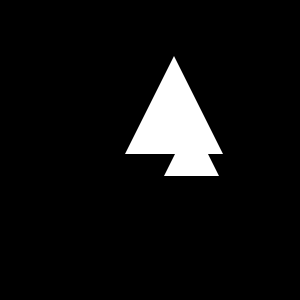triangle: (125, 56, 223, 154), (164, 121, 219, 176)
